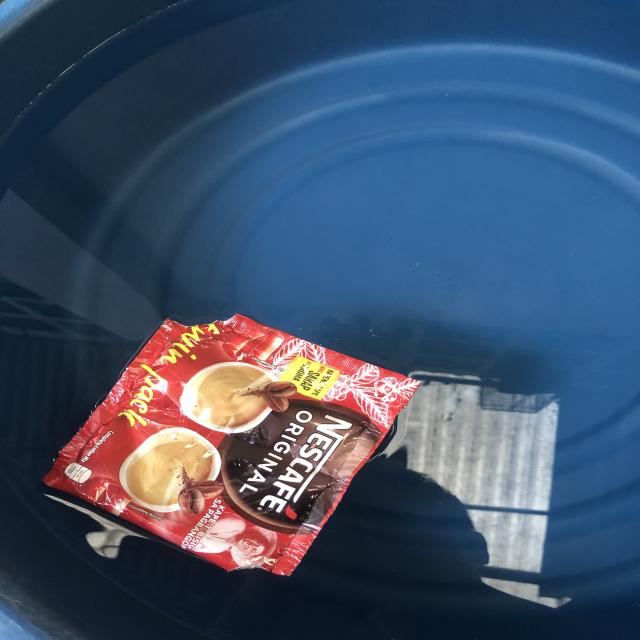Plastic Wrapper: (0, 303, 442, 584)
